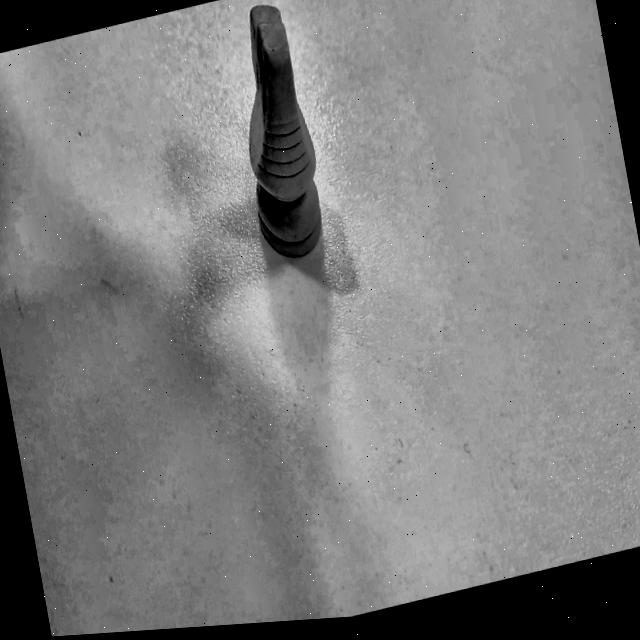white-knight: (195, 0, 353, 295)
